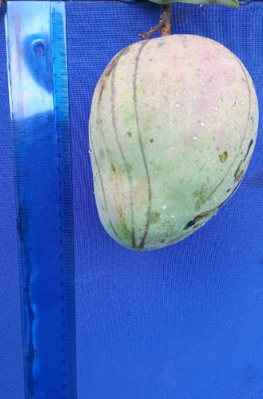Mango-Antracnosis: (89, 34, 258, 250)
Mango-area-afectada: (89, 41, 151, 249)
Mango-sano: (130, 35, 258, 211)
